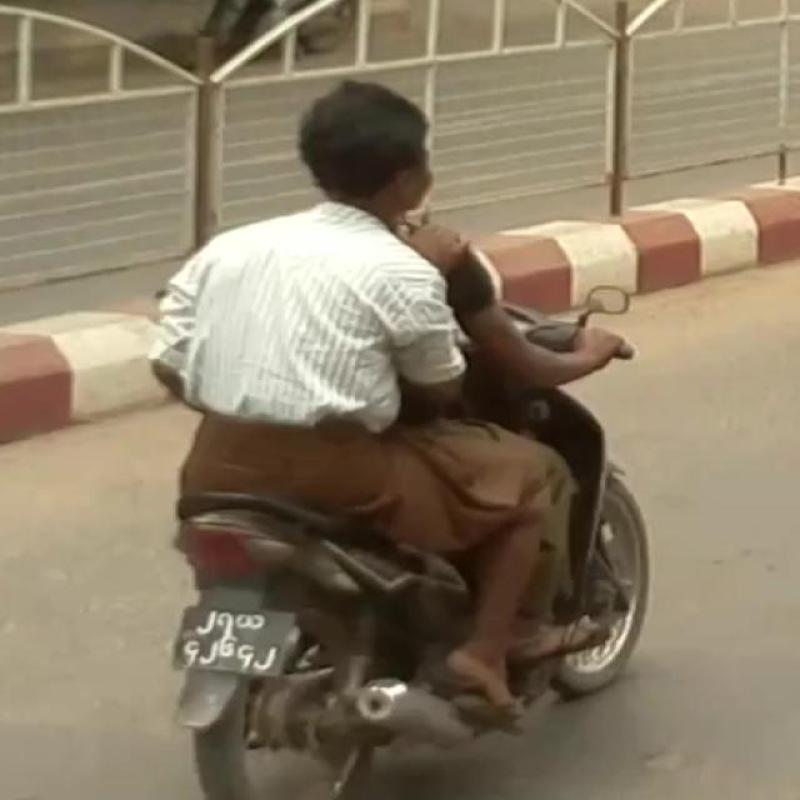nohelmet: (258, 76, 456, 225)
